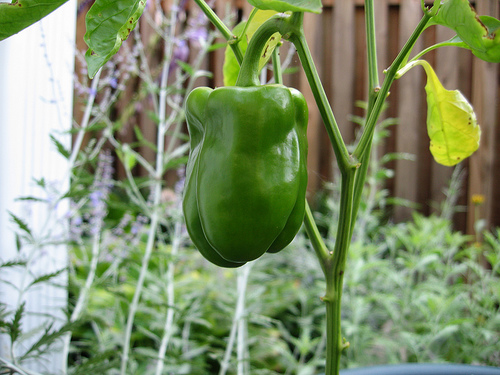capsicum: (181, 16, 307, 270)
